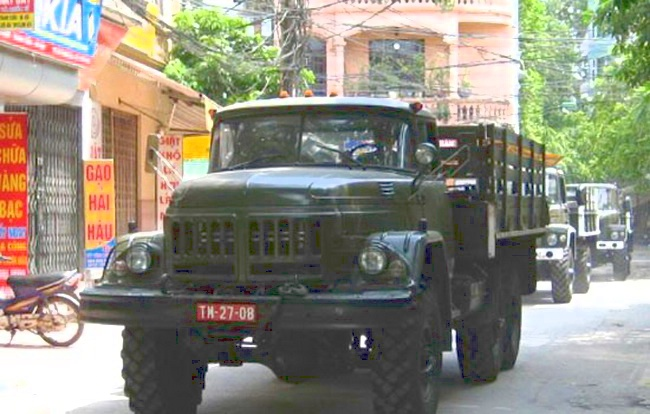plate: (192, 299, 262, 327)
